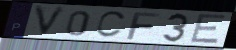0: (64, 10, 94, 37)
3: (162, 12, 191, 43)
C: (94, 10, 128, 39)
E: (189, 13, 229, 45)
F: (125, 11, 162, 41)
V: (33, 5, 69, 38)
